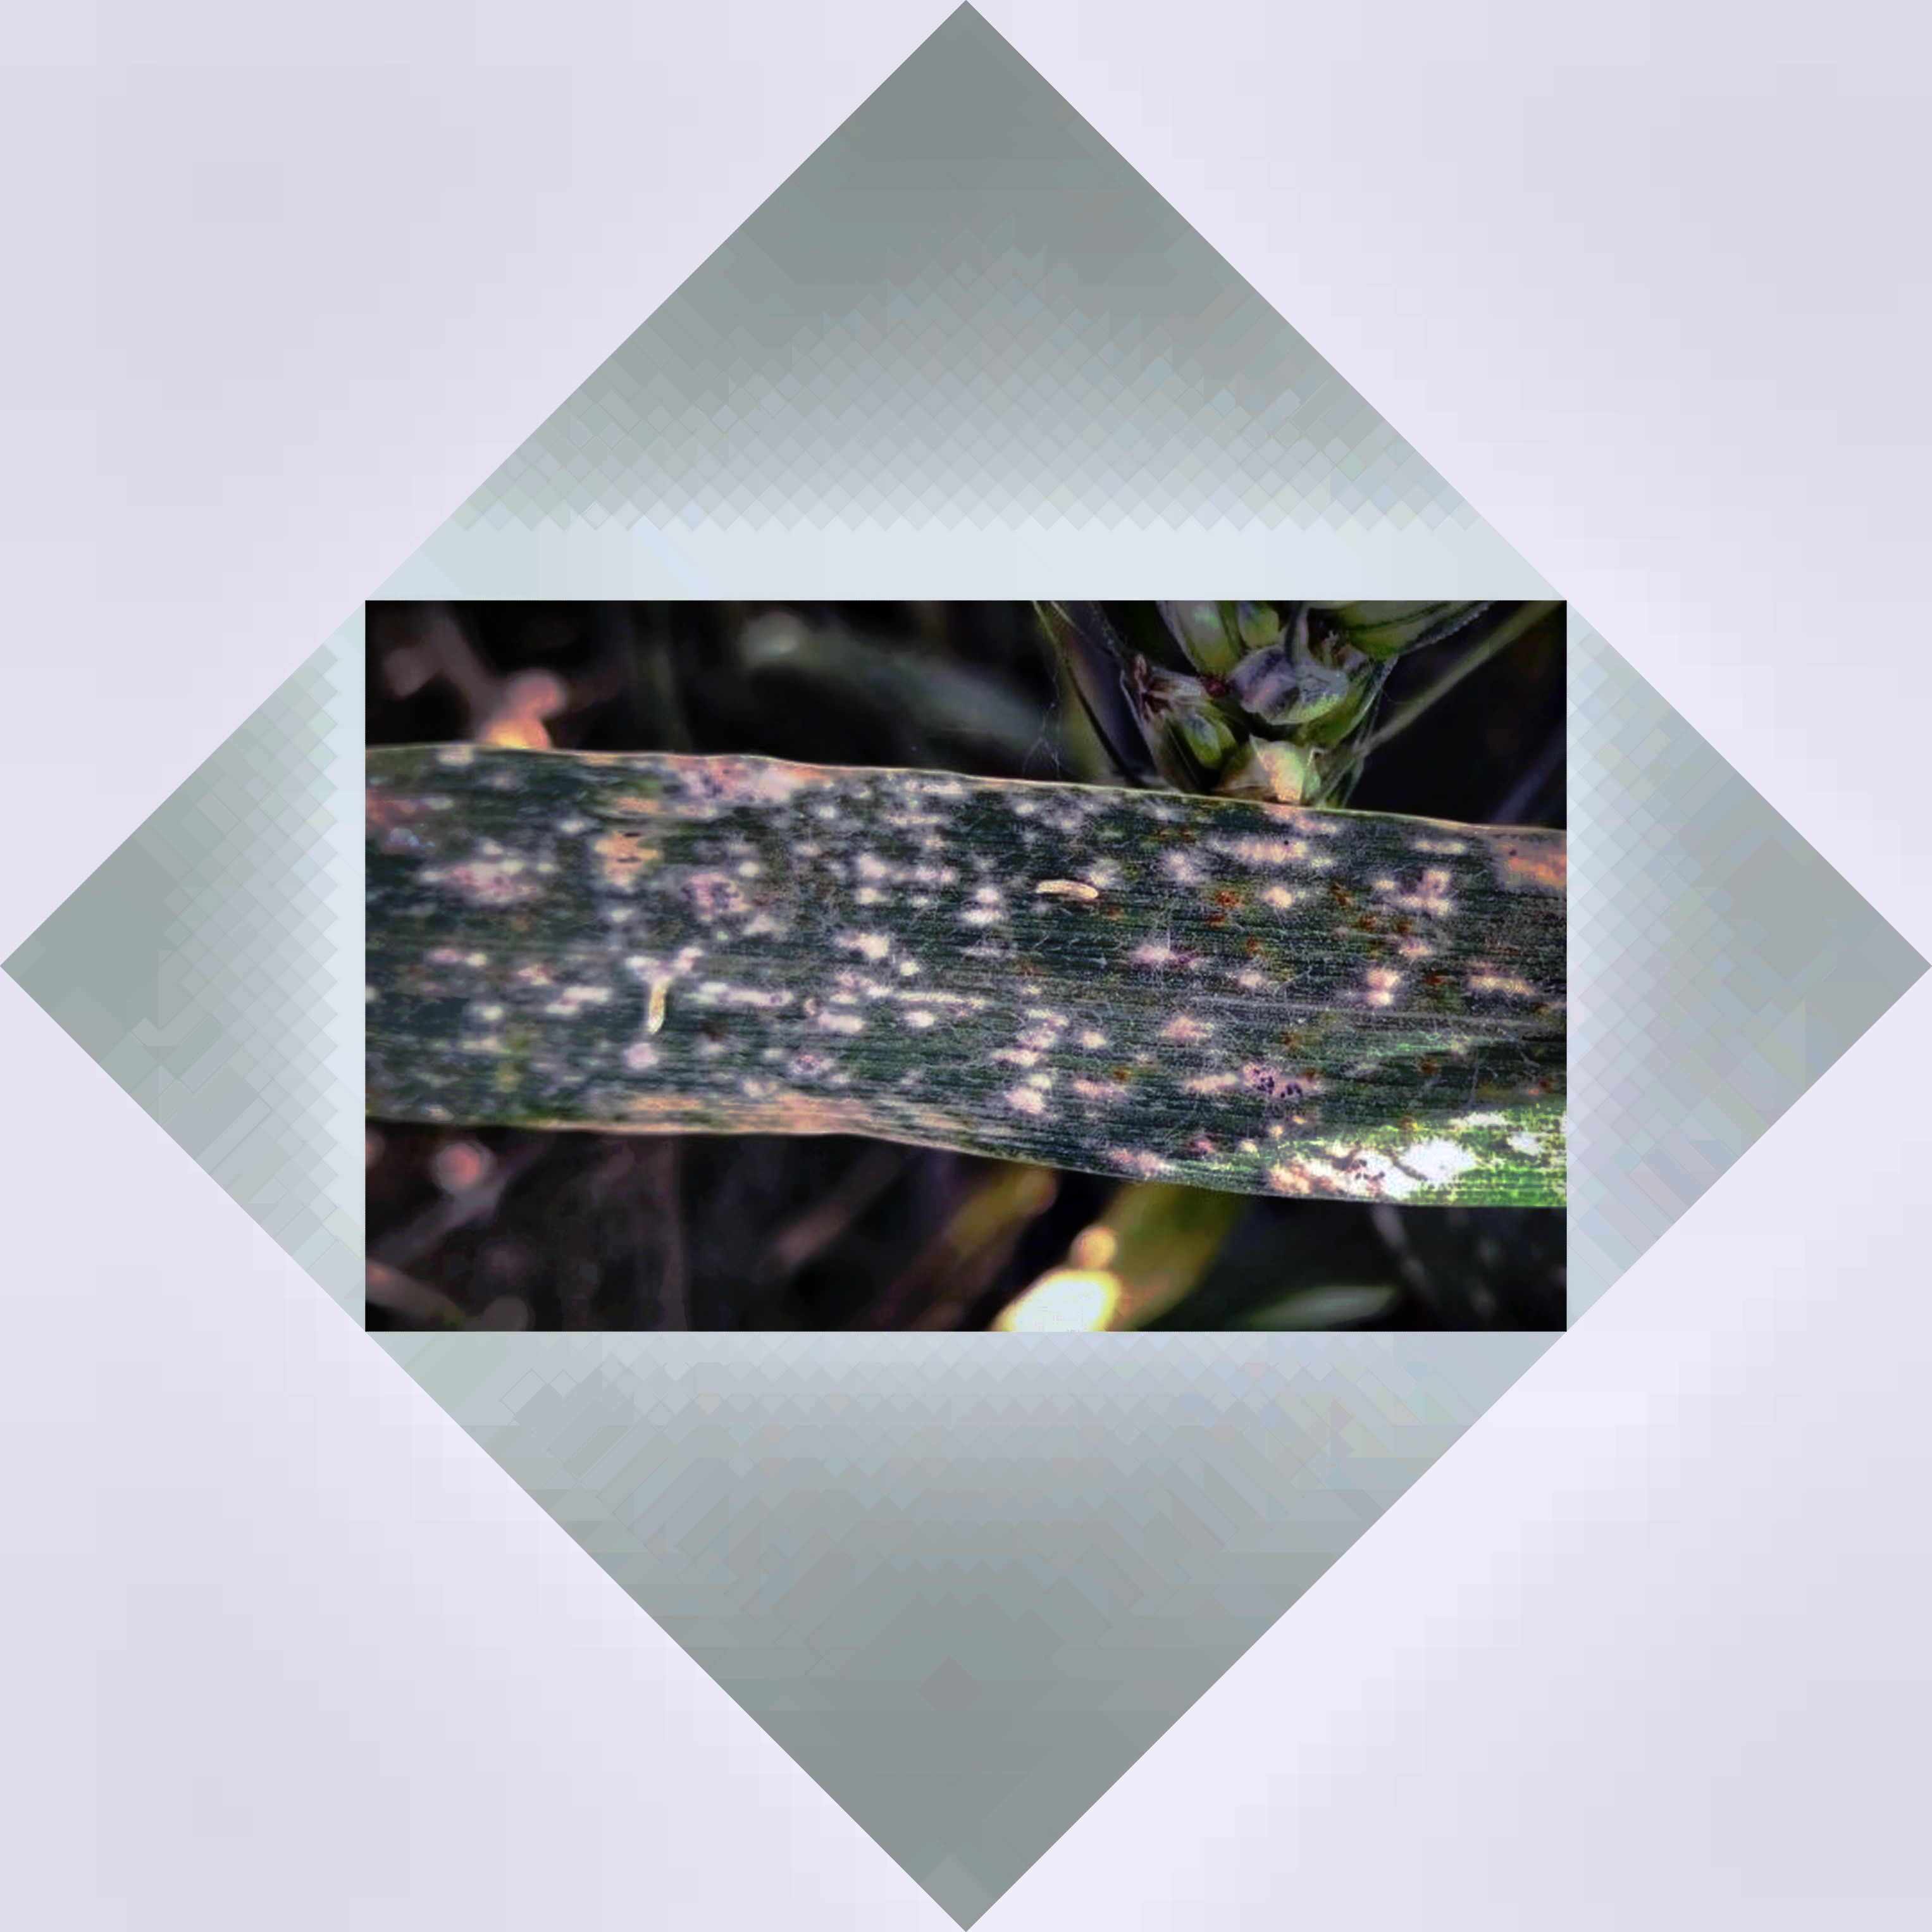Powdery Mildew: (534, 750, 1529, 1237)
